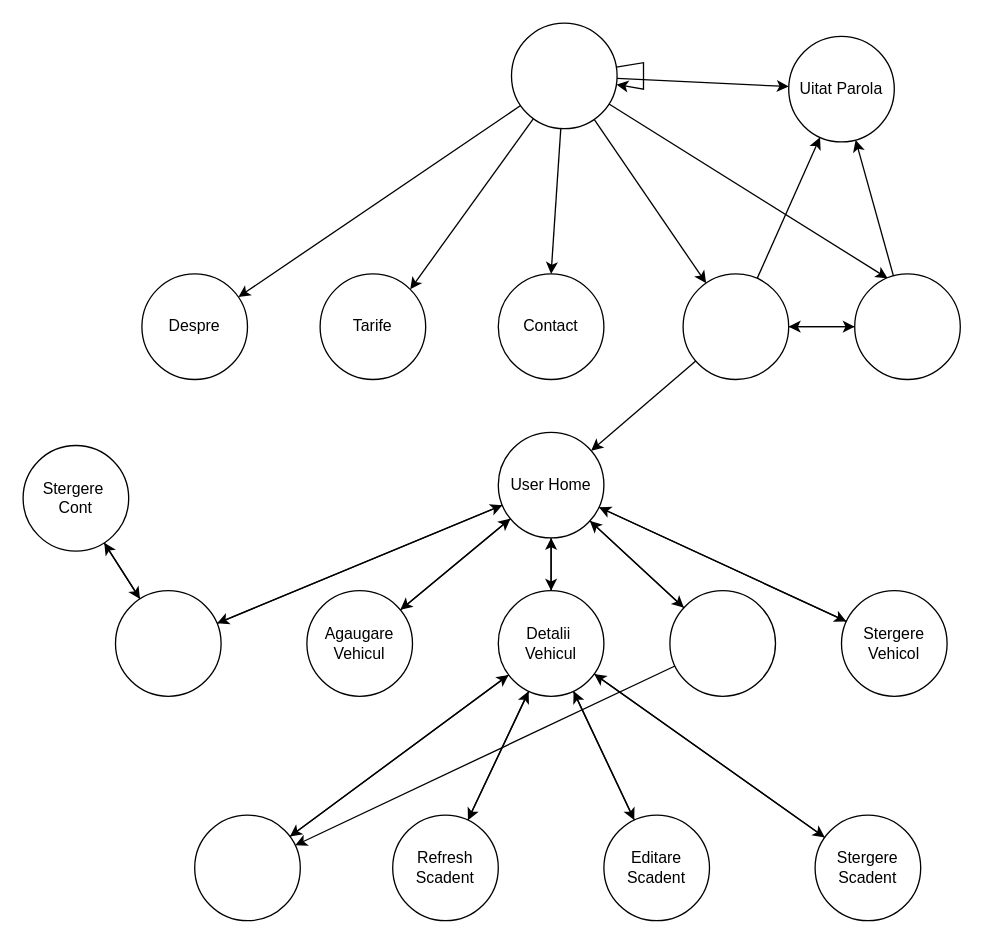
Image size: 983x944. Some labels were removed from this diagram. The shapes that lost their labels are listed below. From the top down, each one's centre as x and y in pixels, then its label:
At (563,75): "Home".
At (735,326): "SignIn".
At (906,326): "SignUp".
At (167,642): "Editare Cont".
At (722,642): "Editare Vehicul".
At (246,867): "Adauga Scadent".
